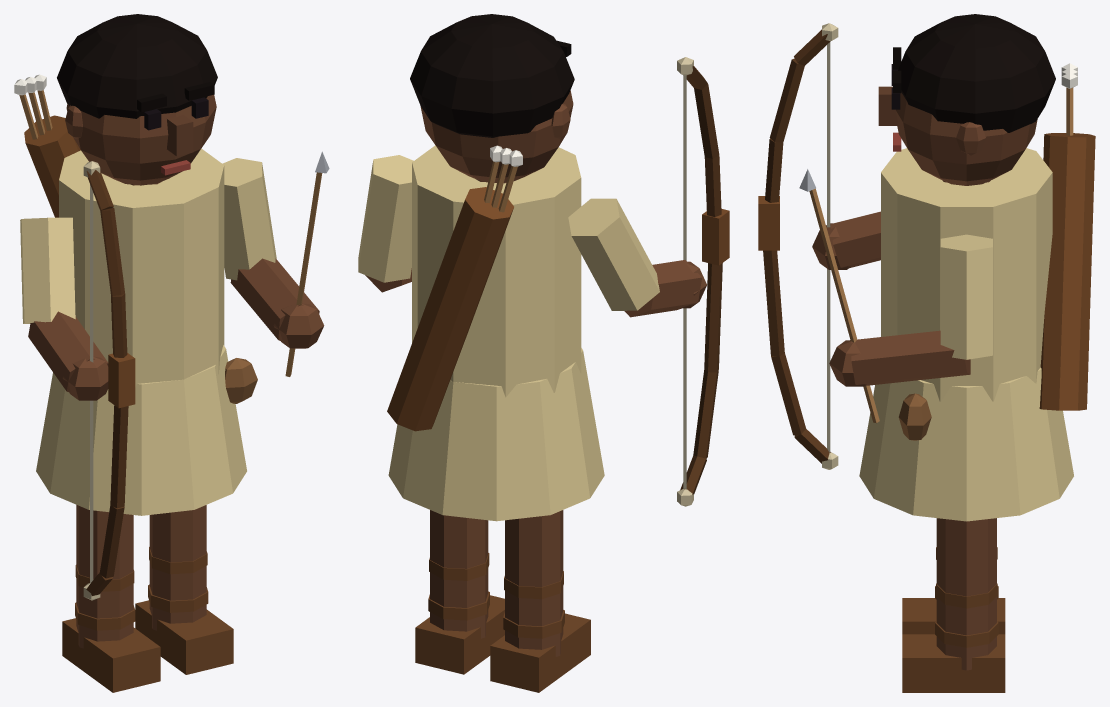
The model's file is nubijczyk.glb.
3 views of the same model, side by side, from view 1: azimuth 30°, elevation 25°; view 2: azimuth 150°, elevation 25°; view 3: azimuth 270°, elevation 25° (orthographic). The views are drawn at different scales.
Parts seen in each view (by area): view 1: cialo, glowa, reka_l, reka_p, noga_p, noga_l, cieciwa_luku; view 2: cialo, glowa, reka_l, noga_l, noga_p, reka_p, cieciwa_luku; view 3: cialo, glowa, reka_p, noga_p, reka_l, noga_l, cieciwa_luku.
Boxes of the visible parts, x1=… form: cialo: x1=14, y1=74, x2=257, y2=515; glowa: x1=57, y1=14, x2=217, y2=185; reka_l: x1=20, y1=161, x2=135, y2=600; reka_p: x1=222, y1=151, x2=329, y2=376; noga_p: x1=135, y1=505, x2=233, y2=674; noga_l: x1=62, y1=505, x2=160, y2=692; cieciwa_luku: x1=90, y1=184, x2=93, y2=583; cialo: x1=387, y1=145, x2=604, y2=521; glowa: x1=410, y1=14, x2=574, y2=183; reka_l: x1=568, y1=57, x2=729, y2=506; noga_l: x1=490, y1=510, x2=590, y2=692; noga_p: x1=415, y1=510, x2=504, y2=674; reka_p: x1=358, y1=155, x2=413, y2=292; cieciwa_luku: x1=683, y1=75, x2=686, y2=489; cialo: x1=859, y1=63, x2=1095, y2=521; glowa: x1=878, y1=14, x2=1055, y2=185; reka_p: x1=799, y1=169, x2=992, y2=423; noga_p: x1=902, y1=518, x2=1005, y2=692; reka_l: x1=758, y1=23, x2=880, y2=469; noga_l: x1=902, y1=547, x2=1005, y2=634; cieciwa_luku: x1=827, y1=42, x2=830, y2=452.
Size of the model in its own units: 0.7474 by 1.64 by 0.7848.
